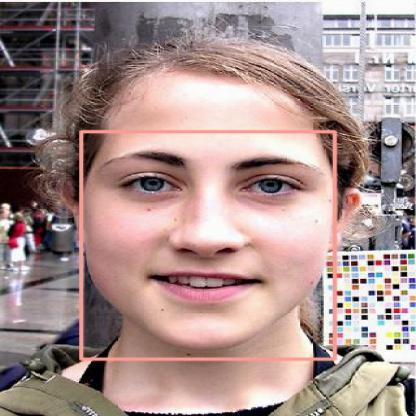without_mask: (81, 131, 334, 359)
